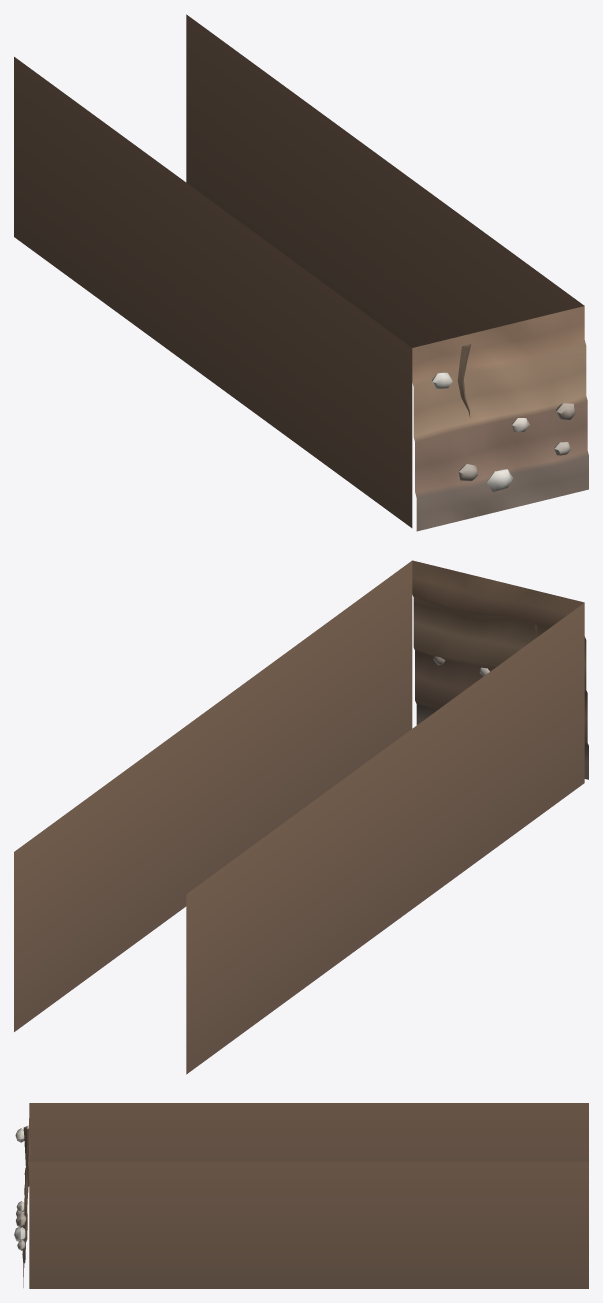
File: ground_earth_1.glb
3 views of the same model, one above another, from view 1: azimuth 30°, elevation 25°; view 2: azimuth 150°, elevation 25°; view 3: azimuth 270°, elevation 25° (orthographic). The views are drawn at different scales.
Visible parts, largest first — view 1: ground_earth_1; view 2: ground_earth_1; view 3: ground_earth_1.
Part boxes in pixels (x1,y1,x2,y2): ground_earth_1: (14, 14, 588, 531); ground_earth_1: (14, 560, 588, 1074); ground_earth_1: (14, 1103, 588, 1288).
Size of the model in its own units: 1 by 1 by 4.11.
